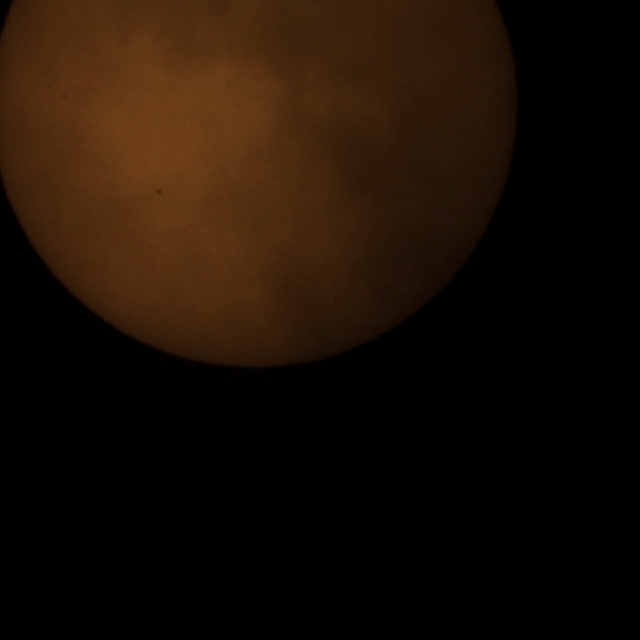sunspot: (155, 188, 164, 196)
